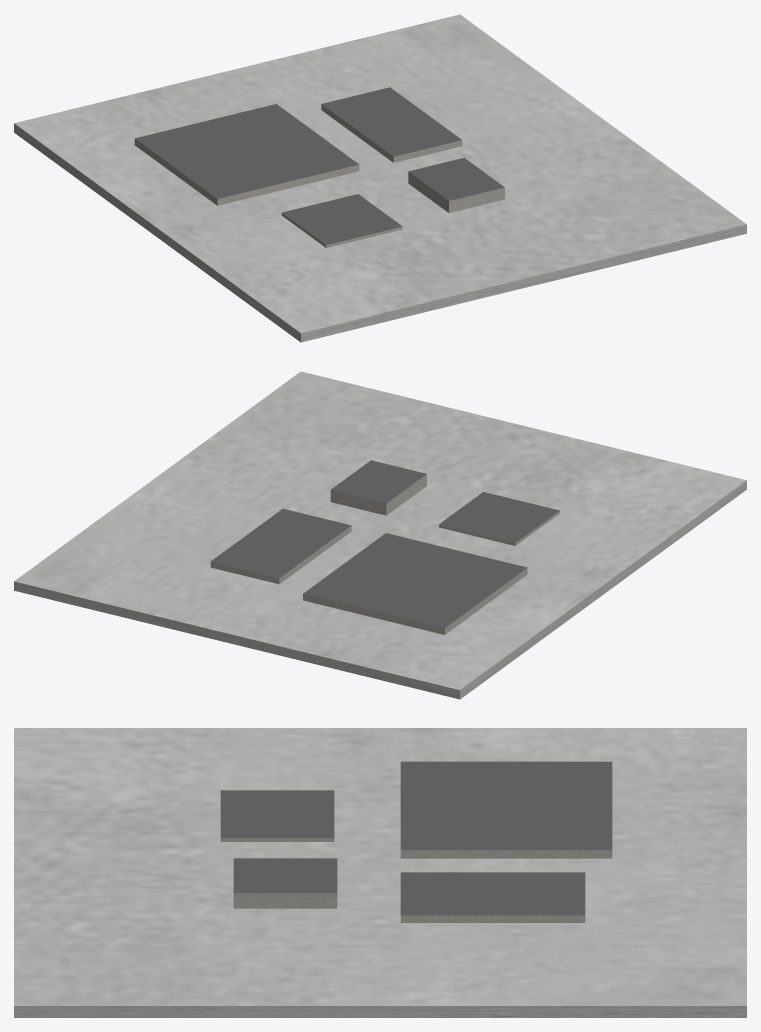
Rendered from overview.fbx.
3 views of the same model, one above another, from view 1: azimuth 30°, elevation 25°; view 2: azimuth 150°, elevation 25°; view 3: azimuth 270°, elevation 25° (orthographic). The views are drawn at different scales.
Parts seen in each view (by area): view 1: changqu_cs1; view 2: changqu_cs1; view 3: changqu_cs1.
Part boxes in pixels (x1,y1,x2,y2): changqu_cs1: [14, 14, 746, 342]; changqu_cs1: [14, 371, 746, 699]; changqu_cs1: [14, 728, 746, 1017].
Size of the model in its own units: 607 by 28 by 676.
Materials: 3 (2 with a texture image).
